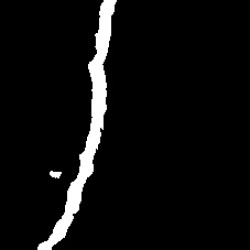crack: (39, 1, 116, 249), (52, 169, 61, 179)
